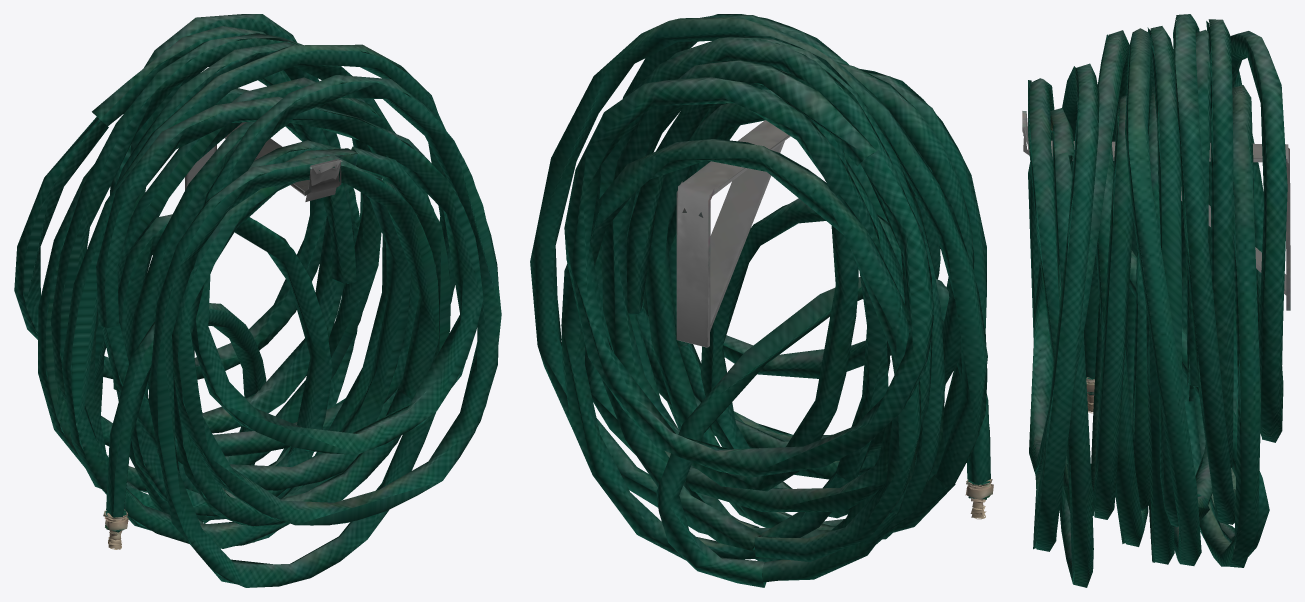
The model's file is ph_hose.glb.
3 views of the same model, side by side, from view 1: azimuth 30°, elevation 25°; view 2: azimuth 150°, elevation 25°; view 3: azimuth 270°, elevation 25° (orthographic). The views are drawn at different scales.
Visible parts, largest first — view 1: garden_hose, garden_hose_wall_bracket; view 2: garden_hose, garden_hose_wall_bracket; view 3: garden_hose, garden_hose_wall_bracket.
Boxes of the visible parts, box(x1,y1,x2,y2) form: garden_hose: box(14, 14, 501, 587); garden_hose_wall_bracket: box(185, 122, 342, 201); garden_hose: box(530, 14, 993, 587); garden_hose_wall_bracket: box(676, 120, 790, 347); garden_hose: box(1028, 14, 1287, 587); garden_hose_wall_bracket: box(1022, 111, 1290, 310).
Size of the model in its own units: 0.4684 by 0.558 by 0.2503.
Materials: 1 (1 with a texture image).
